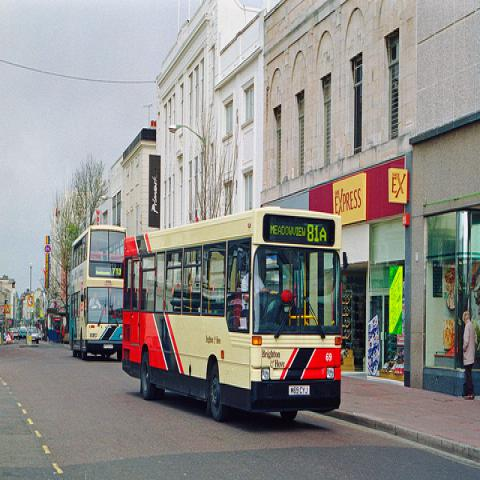bus: (113, 204, 343, 432), (70, 224, 128, 362)
car: (27, 326, 40, 344), (10, 328, 22, 341), (19, 326, 27, 338)
